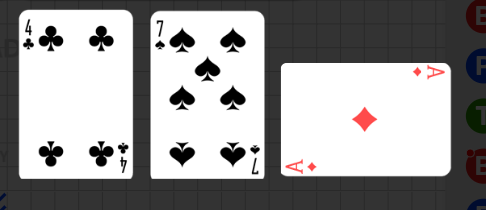4C: (23, 18, 37, 52)
AD: (410, 66, 446, 83), (285, 157, 320, 173)
